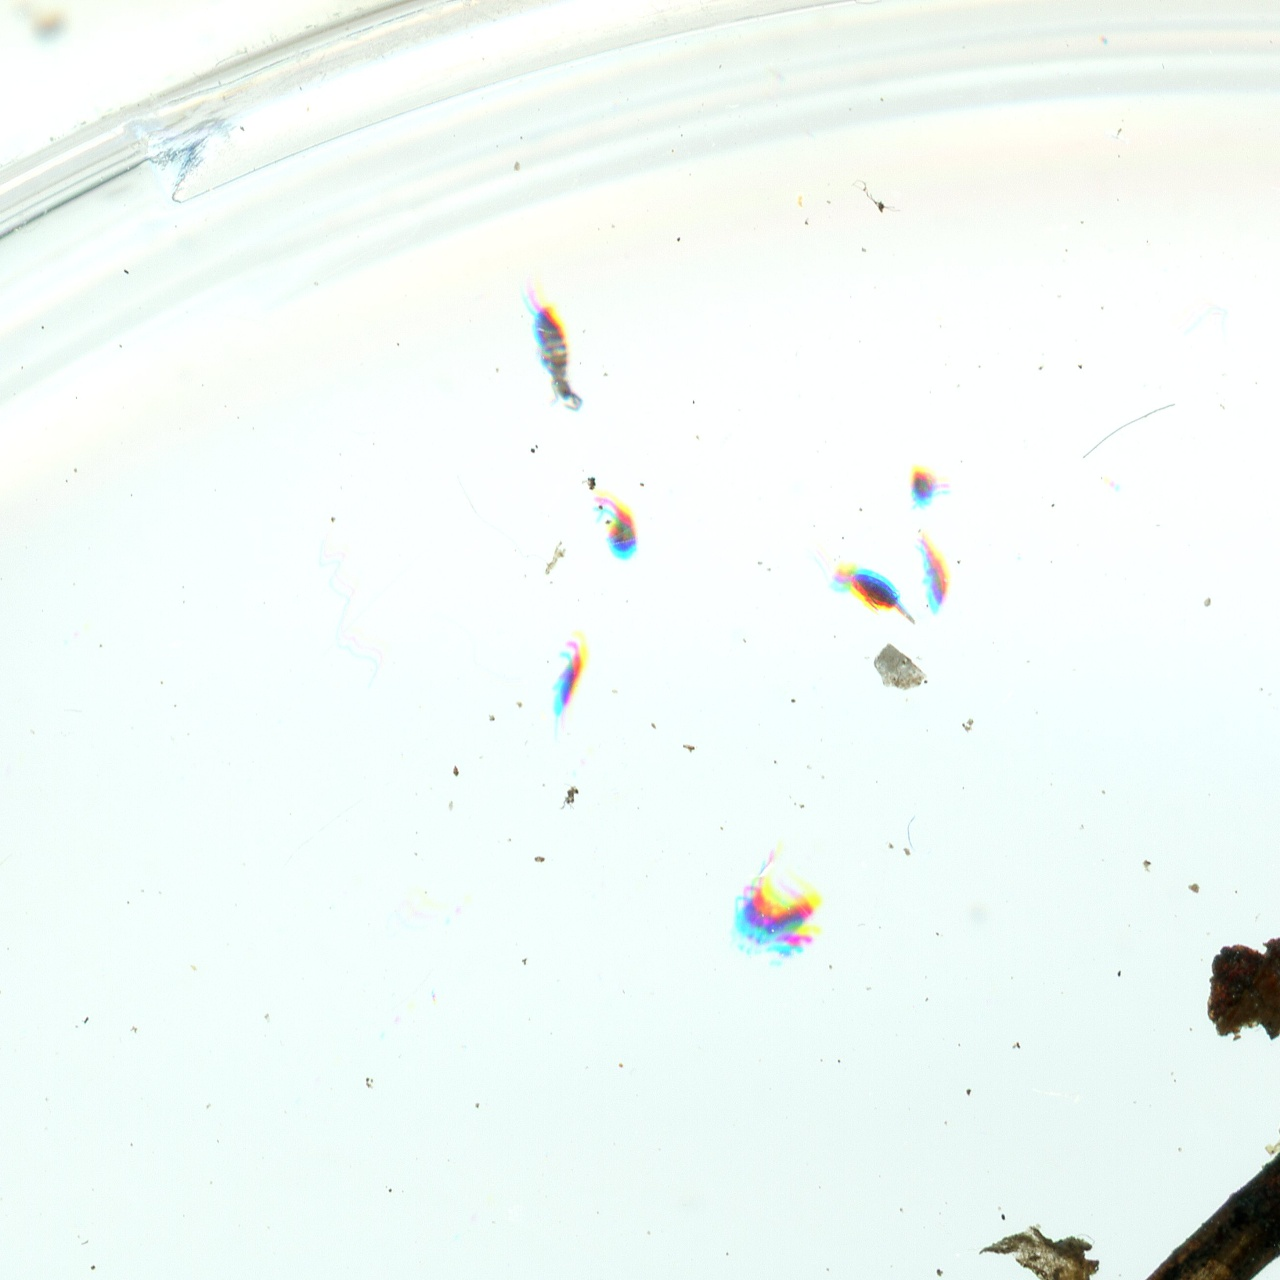arthropod: (498, 275, 601, 424), (794, 536, 932, 635), (733, 846, 823, 961), (532, 623, 599, 749)
